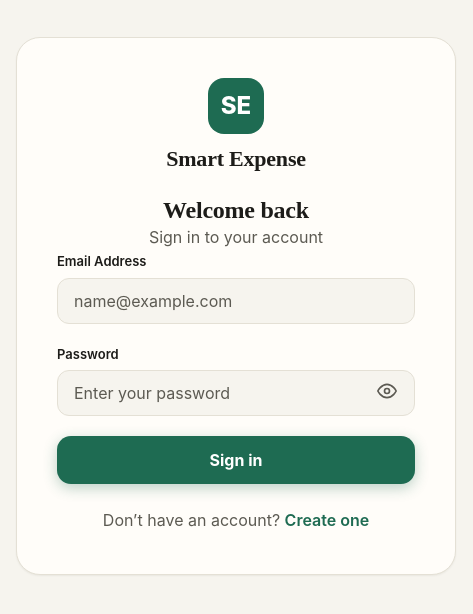
Test: Login accessibility › announces a failed sign-in and links it to the password field
This screenshot has width=473, height=614.
In the field labelled "Email Address": {"x": 236, "y": 301} [57,278,415,324], type "a@b.c"
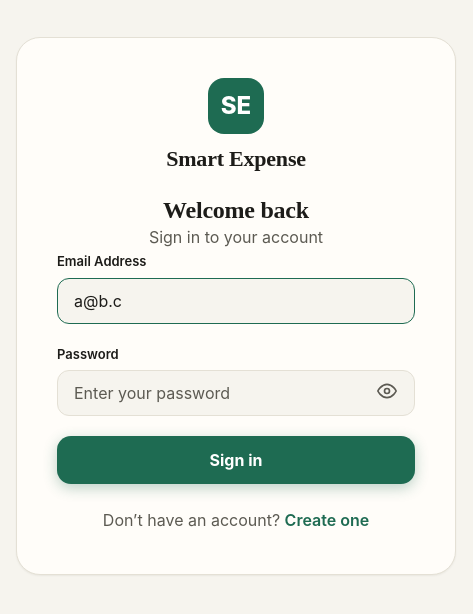
In the password field labelled "Password": {"x": 236, "y": 393} [57,370,415,416], type "wrong-pass"
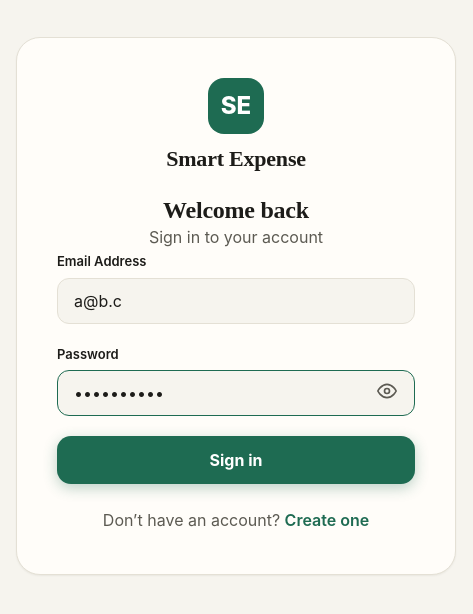
Click the button "Sign in": {"x": 236, "y": 460} [57,436,415,484]
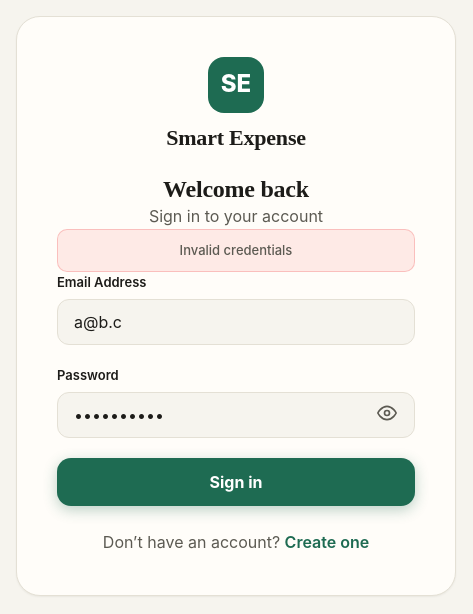
Expected: the password field labelled "Password" has attribute aria-describedby="login-error", [57,392,415,438]
